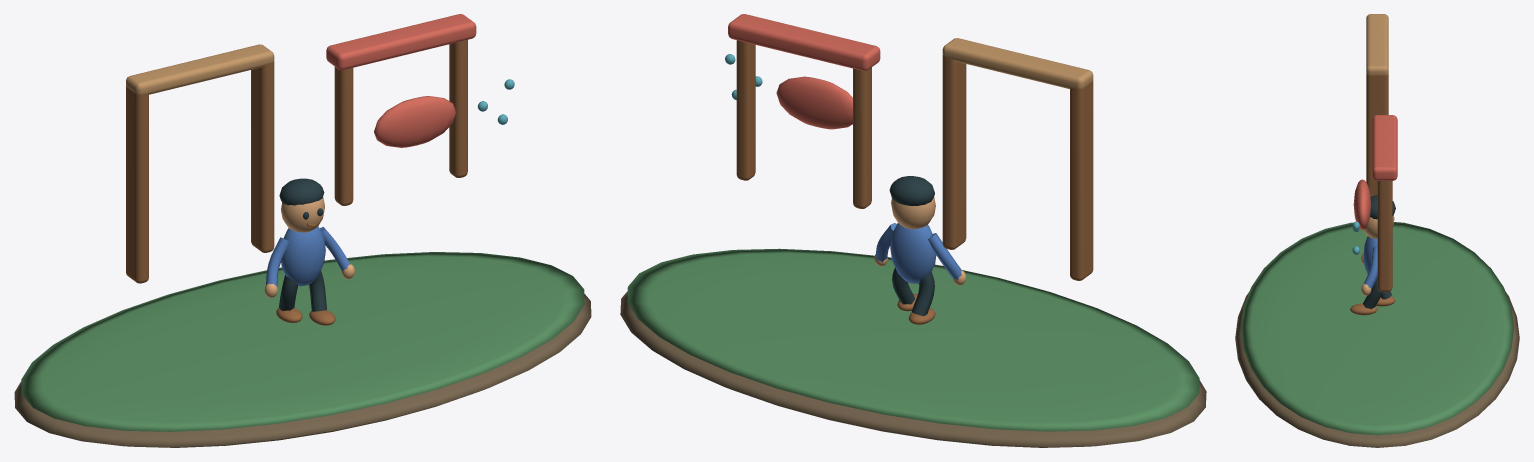
The model's file is complete-second-gate-booth-company.glb.
3 renders of one model, left to right at view 1: azimuth 30°, elevation 25°; view 2: azimuth 150°, elevation 25°; view 3: azimuth 270°, elevation 25°, orthographic. The views are drawn at different scales.
Parts seen in each view (by area): view 1: complete-second-gate-booth-company_surface_01, complete-second-gate-booth-company_surface_02, complete-second-gate-booth-company_surface_00, complete-second-gate-booth-company_surface_04, complete-second-gate-booth-company_surface_03, complete-second-gate-booth-company_surface_08, complete-second-gate-booth-company_surface_07, complete-second-gate-booth-company_surface_06; view 2: complete-second-gate-booth-company_surface_01, complete-second-gate-booth-company_surface_02, complete-second-gate-booth-company_surface_00, complete-second-gate-booth-company_surface_04, complete-second-gate-booth-company_surface_03, complete-second-gate-booth-company_surface_08, complete-second-gate-booth-company_surface_07, complete-second-gate-booth-company_surface_06; view 3: complete-second-gate-booth-company_surface_01, complete-second-gate-booth-company_surface_00, complete-second-gate-booth-company_surface_02, complete-second-gate-booth-company_surface_04, complete-second-gate-booth-company_surface_03, complete-second-gate-booth-company_surface_08, complete-second-gate-booth-company_surface_07, complete-second-gate-booth-company_surface_06.
Boxes of the visible parts, x1=… form: complete-second-gate-booth-company_surface_01: x1=21, y1=252, x2=584, y2=431; complete-second-gate-booth-company_surface_02: x1=126, y1=40, x2=467, y2=325; complete-second-gate-booth-company_surface_00: x1=14, y1=294, x2=591, y2=447; complete-second-gate-booth-company_surface_04: x1=326, y1=14, x2=476, y2=147; complete-second-gate-booth-company_surface_03: x1=126, y1=44, x2=274, y2=94; complete-second-gate-booth-company_surface_08: x1=266, y1=226, x2=350, y2=286; complete-second-gate-booth-company_surface_07: x1=279, y1=178, x2=326, y2=311; complete-second-gate-booth-company_surface_06: x1=264, y1=197, x2=354, y2=297; complete-second-gate-booth-company_surface_01: x1=627, y1=248, x2=1199, y2=431; complete-second-gate-booth-company_surface_02: x1=736, y1=40, x2=1093, y2=324; complete-second-gate-booth-company_surface_00: x1=620, y1=291, x2=1206, y2=447; complete-second-gate-booth-company_surface_04: x1=728, y1=14, x2=880, y2=129; complete-second-gate-booth-company_surface_03: x1=942, y1=38, x2=1093, y2=88; complete-second-gate-booth-company_surface_08: x1=875, y1=223, x2=961, y2=283; complete-second-gate-booth-company_surface_07: x1=889, y1=176, x2=934, y2=316; complete-second-gate-booth-company_surface_06: x1=874, y1=196, x2=966, y2=285; complete-second-gate-booth-company_surface_01: x1=1241, y1=222, x2=1513, y2=435; complete-second-gate-booth-company_surface_00: x1=1235, y1=291, x2=1519, y2=447; complete-second-gate-booth-company_surface_02: x1=1350, y1=74, x2=1395, y2=315; complete-second-gate-booth-company_surface_04: x1=1353, y1=115, x2=1397, y2=229; complete-second-gate-booth-company_surface_03: x1=1366, y1=14, x2=1388, y2=75; complete-second-gate-booth-company_surface_08: x1=1363, y1=236, x2=1377, y2=289; complete-second-gate-booth-company_surface_07: x1=1363, y1=195, x2=1395, y2=309; complete-second-gate-booth-company_surface_06: x1=1361, y1=215, x2=1394, y2=295.
Bounding box in the file's own units: 4.56 × 2.62 × 2.5.
